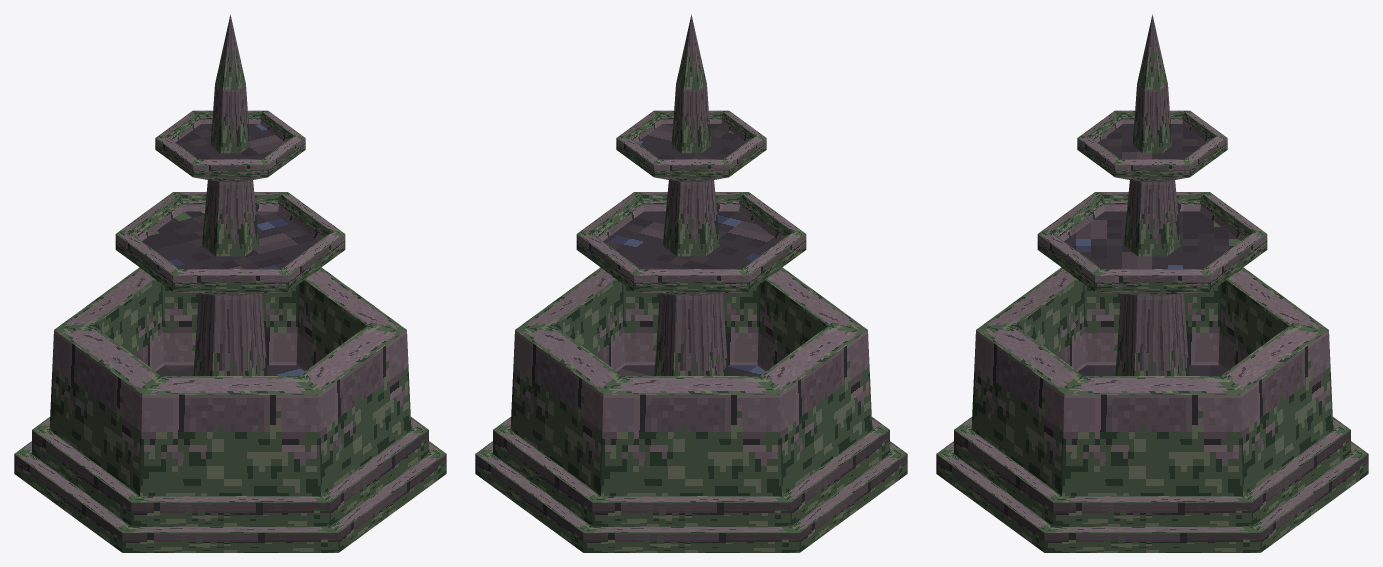
File: brunnen_a2_verbraucht.glb
3 renders of one model, left to right at view 1: azimuth 30°, elevation 25°; view 2: azimuth 150°, elevation 25°; view 3: azimuth 270°, elevation 25°, orthographic.
Parts seen in each view (by area): view 1: body, column; view 2: body, column; view 3: body, column.
Boxes of the visible parts, box(x1,y1,x2,y2) form: body: box(14, 267, 446, 552); column: box(115, 14, 345, 375); body: box(475, 267, 907, 552); column: box(576, 14, 806, 375); body: box(936, 267, 1368, 552); column: box(1037, 14, 1267, 375).
Size of the model in its own units: 1.7 by 2.3 by 1.96.
2 materials, 2 textured.
